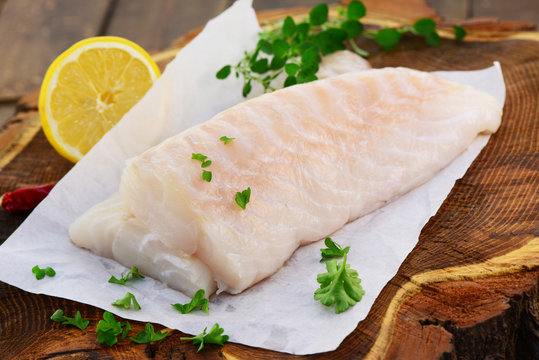bream-fish: (68, 64, 506, 299)
